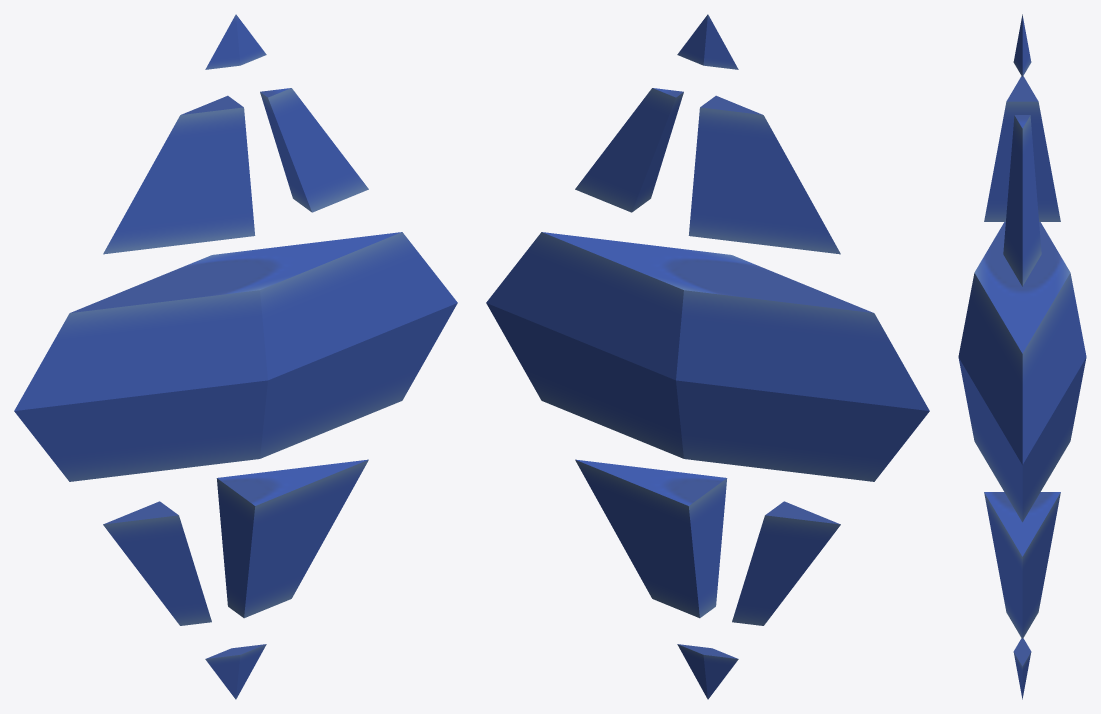
Rendered from geo_diamond.fbx.
3 renders of one model, left to right at view 1: azimuth 30°, elevation 25°; view 2: azimuth 150°, elevation 25°; view 3: azimuth 270°, elevation 25°, orthographic.
Parts seen in each view (by area): view 1: geo_diamond; view 2: geo_diamond; view 3: geo_diamond.
Boxes of the visible parts, box(x1,y1,x2,y2) form: geo_diamond: box(14, 14, 457, 699); geo_diamond: box(486, 14, 929, 699); geo_diamond: box(958, 14, 1086, 699).
Size of the model in its own units: 330 by 82.55 by 488.
Materials: 1 (1 with a texture image).
